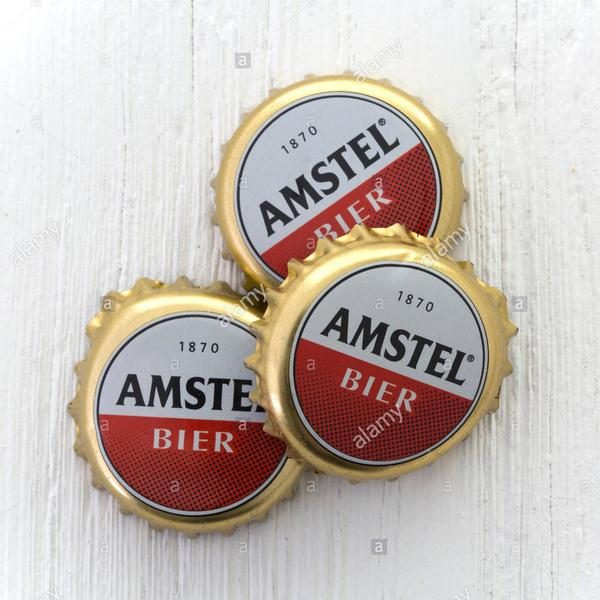amstel: (69, 286, 296, 541), (211, 75, 462, 268), (282, 259, 506, 471)
